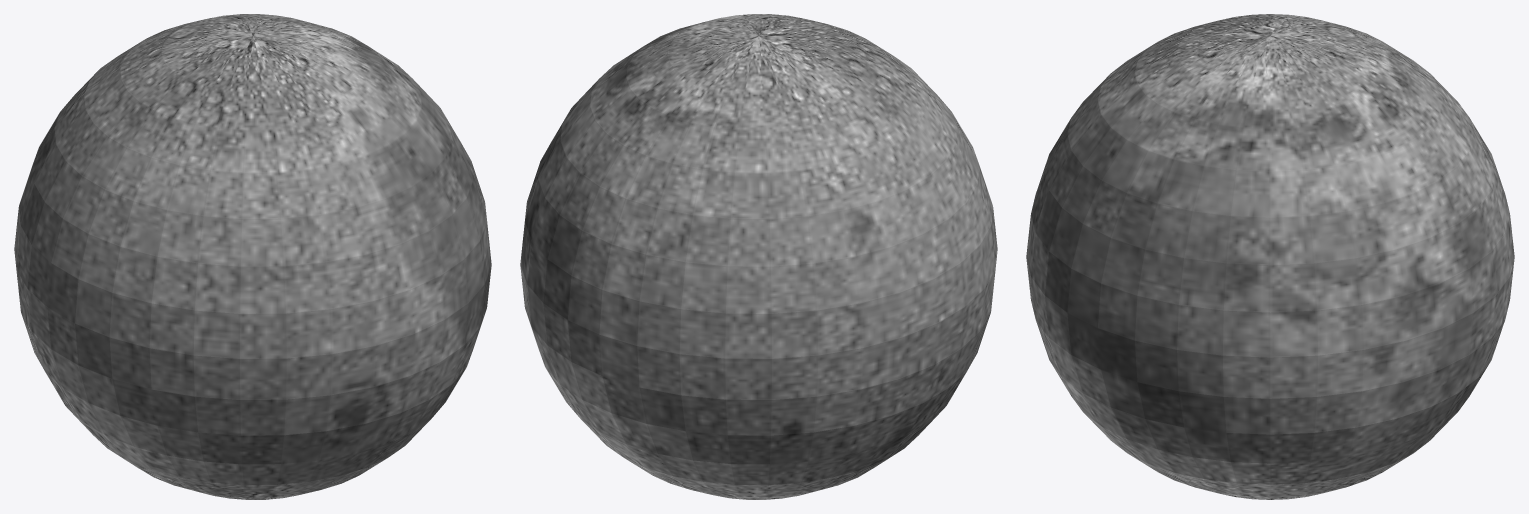
The model's file is moon.glb.
3 views of the same model, side by side, from view 1: azimuth 30°, elevation 25°; view 2: azimuth 150°, elevation 25°; view 3: azimuth 270°, elevation 25° (orthographic).
Visible parts, largest first — view 1: 球; view 2: 球; view 3: 球.
Boxes of the visible parts, bbox=[...] form: 球: bbox=[14, 14, 491, 499]; 球: bbox=[520, 14, 997, 499]; 球: bbox=[1026, 14, 1514, 499].
Size of the model in its own units: 0.6819 by 0.6994 by 0.6994.
1 material, 1 textured.
